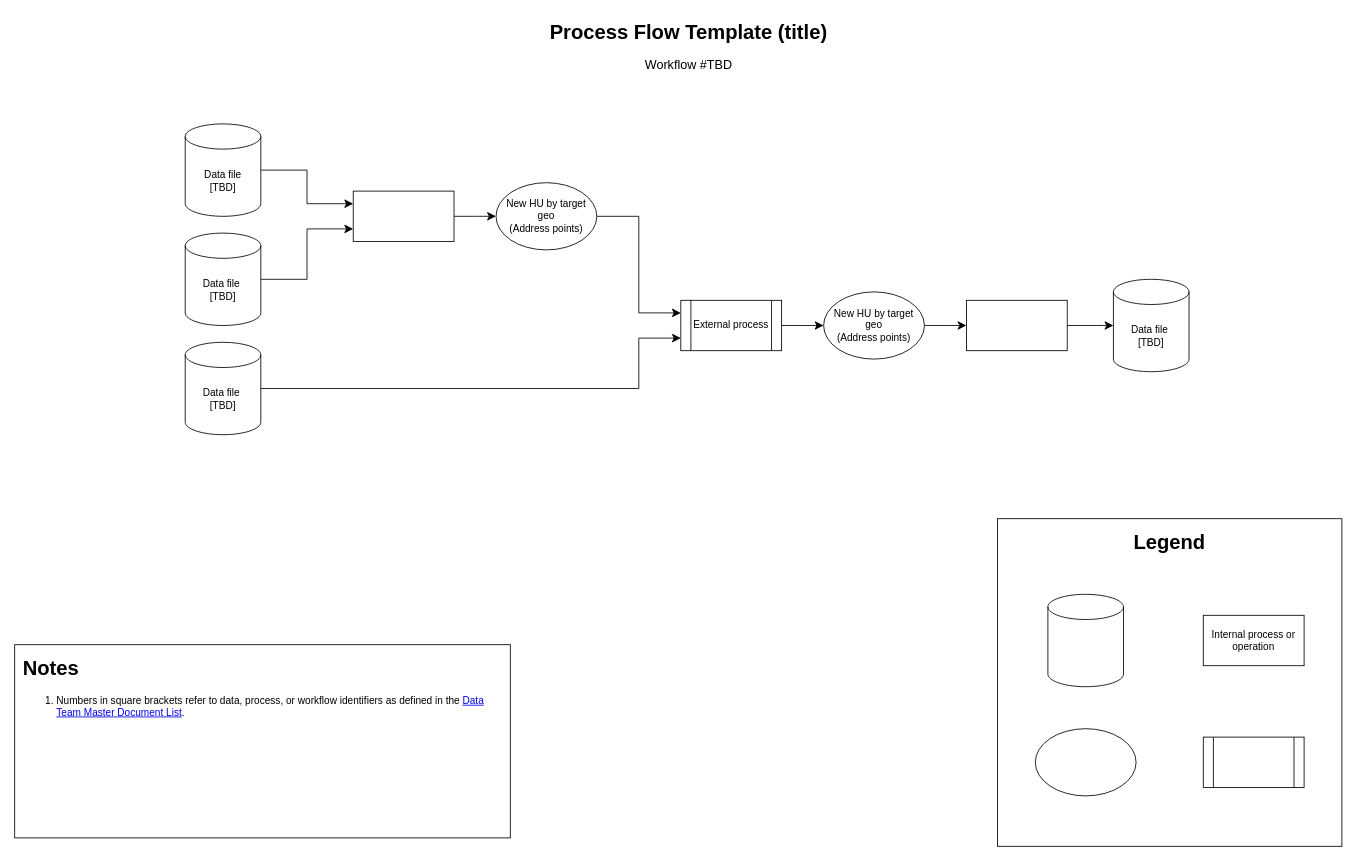
The diagram is 1357 pixels wide and 861 high, and some of its shapes have lost their labels. The centre of each missing label's shape, as x and y in pixels:
Data file [NNN[ (note 1): (x=1085, y=640)
Data in memory: (x=1085, y=762)
External process or workflow: (x=1253, y=762)
Operation: (x=403, y=216)
Write data to disk and validate: (x=1016, y=325)
